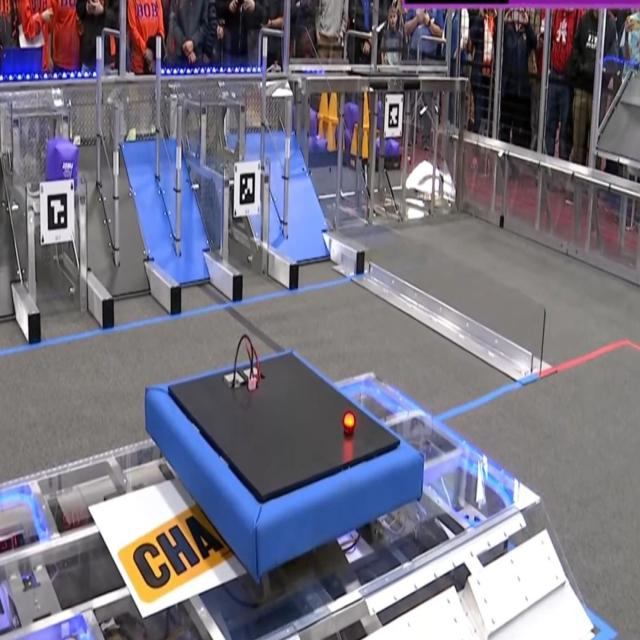frc_cone: (361, 92, 371, 134), (349, 126, 357, 166), (329, 87, 338, 119), (361, 130, 369, 166), (332, 130, 341, 159), (323, 127, 333, 149), (319, 94, 328, 118)
frc_cube: (46, 136, 78, 192), (344, 99, 361, 131), (307, 132, 327, 158), (307, 104, 319, 143), (387, 139, 401, 160), (378, 132, 386, 161), (386, 119, 394, 141), (344, 124, 348, 146)
